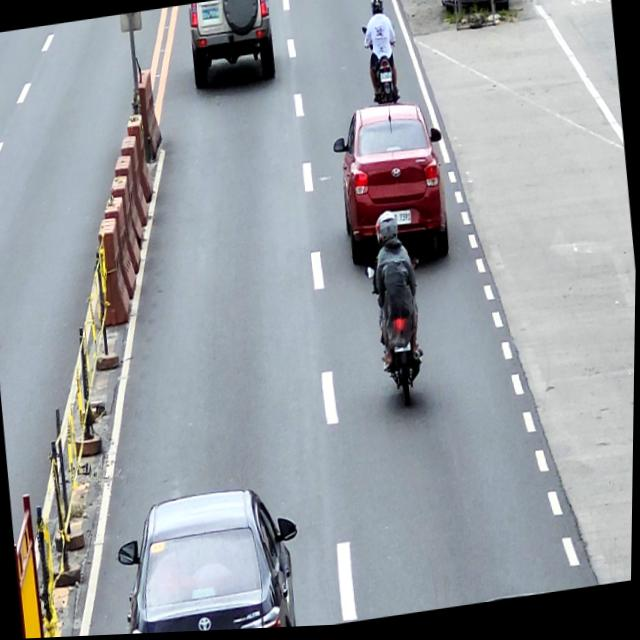Car: (113, 481, 310, 636), (329, 99, 454, 273), (185, 0, 278, 92)
License-Plate: (390, 213, 412, 230), (201, 8, 221, 23), (394, 340, 412, 356), (379, 74, 392, 86)
Motorcycle: (364, 261, 433, 412), (361, 23, 402, 109)
